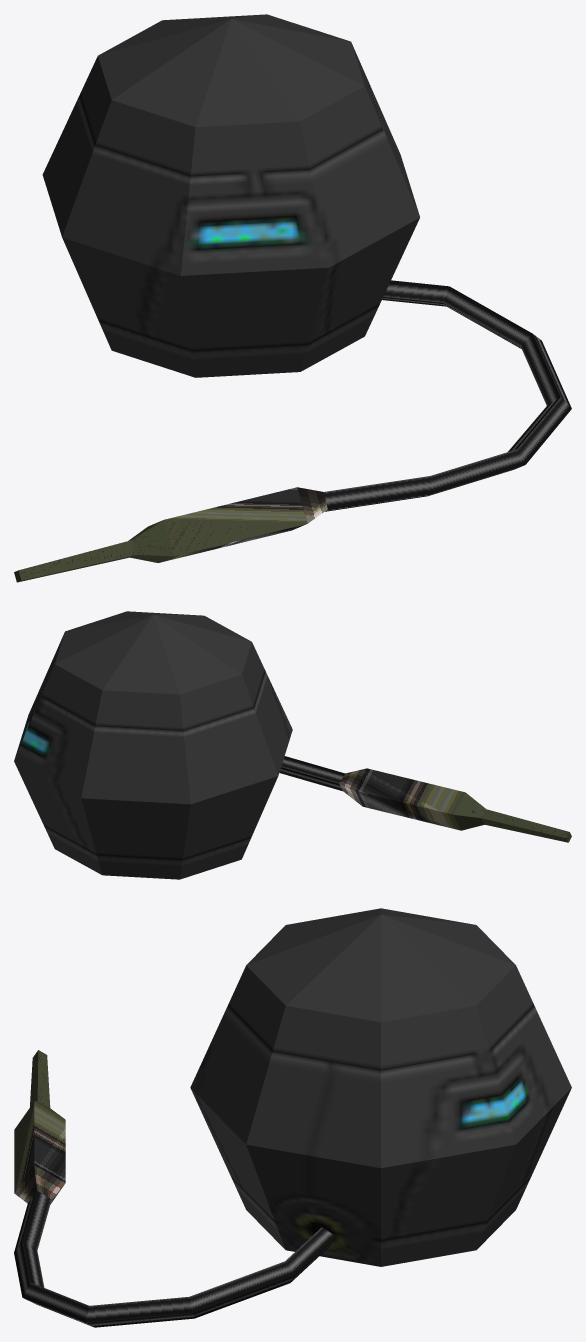
The model's file is lobby.glb.
The picture shows the model from 3 angles, top to bottom: view 1: azimuth 30°, elevation 25°; view 2: azimuth 150°, elevation 25°; view 3: azimuth 270°, elevation 25°; orthographic projection. The views are drawn at different scales.
Visible parts, largest first — view 1: Psy; view 2: Psy; view 3: Psy.
Boxes of the visible parts, left/top/right/bottom form: Psy: left=14, top=14, right=571, bottom=582; Psy: left=14, top=611, right=571, bottom=879; Psy: left=14, top=908, right=571, bottom=1327.
Size of the model in its own units: 1.49 by 0.848 by 1.22.
Materials: 3 (3 with a texture image).
